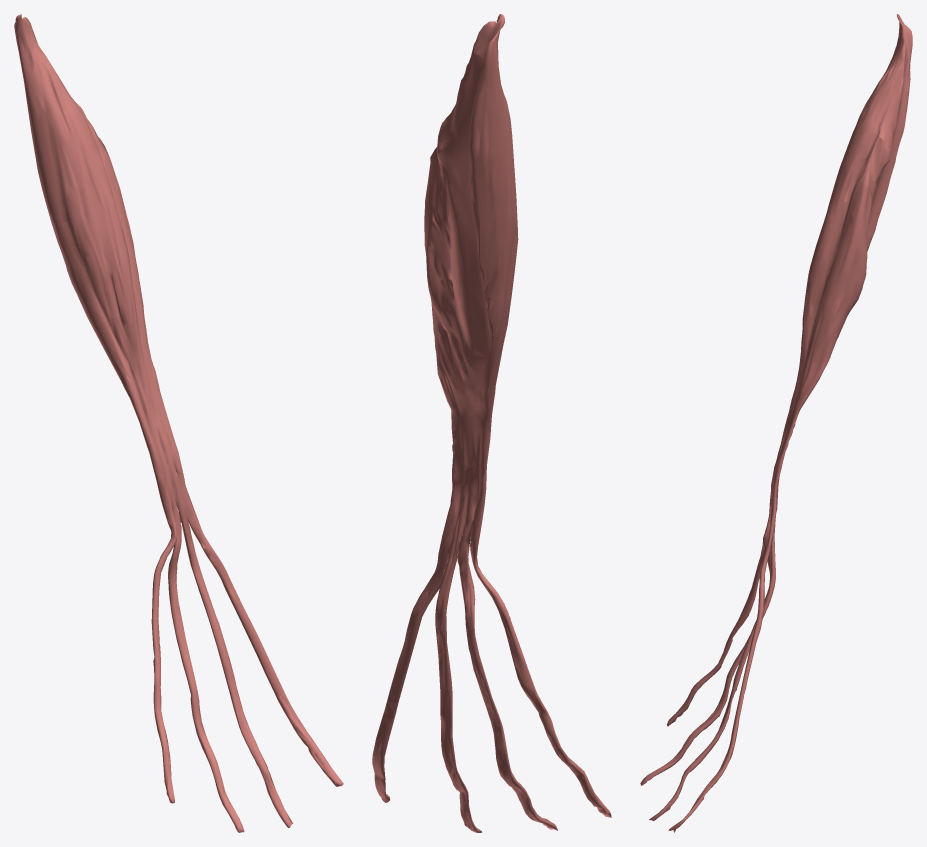
3 views of the same model, side by side, from view 1: azimuth 30°, elevation 25°; view 2: azimuth 150°, elevation 25°; view 3: azimuth 270°, elevation 25° (orthographic). The views are drawn at different scales.
Visible parts, largest first — view 1: ZA_638e4f0945e54dd4; view 2: ZA_638e4f0945e54dd4; view 3: ZA_638e4f0945e54dd4.
Part boxes in pixels (x1=…): ZA_638e4f0945e54dd4: x1=14, y1=14, x2=343, y2=832; ZA_638e4f0945e54dd4: x1=372, y1=14, x2=611, y2=832; ZA_638e4f0945e54dd4: x1=640, y1=14, x2=912, y2=832.
Size of the model in its own units: 0.1065 by 0.365 by 0.1221.
